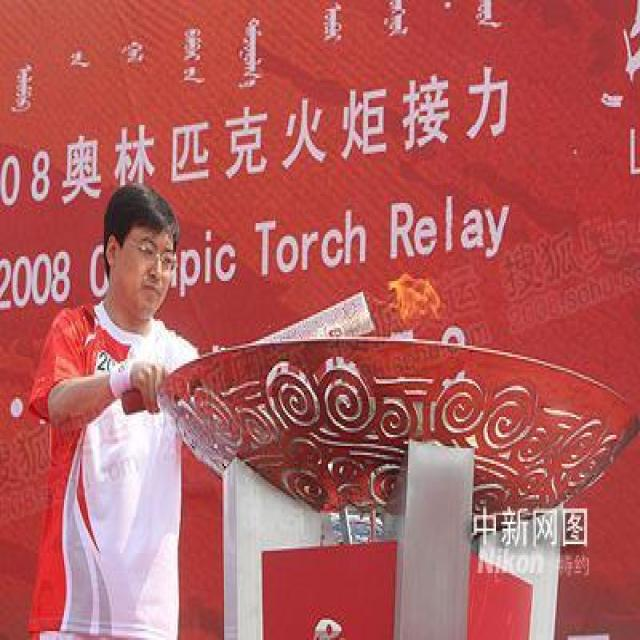fire: (377, 238, 440, 325)
